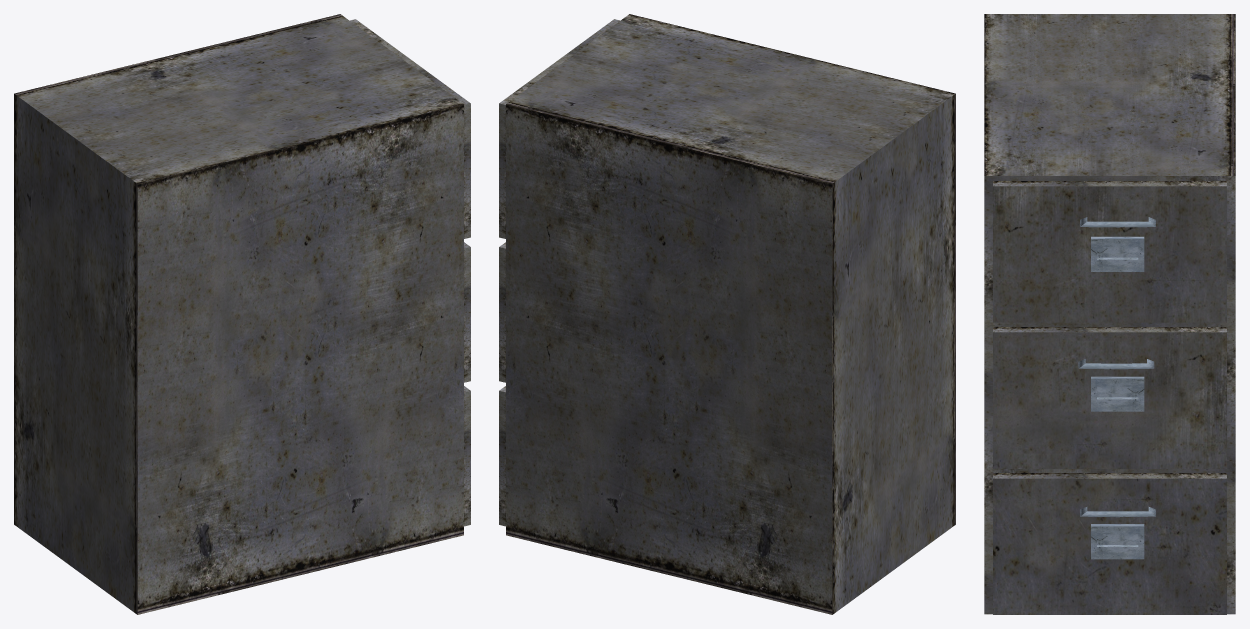
The model's file is M_Home_Garden_cabinet2.fbx.
3 views of the same model, side by side, from view 1: azimuth 30°, elevation 25°; view 2: azimuth 150°, elevation 25°; view 3: azimuth 270°, elevation 25° (orthographic).
Visible parts, largest first — view 1: M_Home_Garden_cabinet2; view 2: M_Home_Garden_cabinet2; view 3: M_Home_Garden_cabinet2.
Boxes of the visible parts, x1=… form: M_Home_Garden_cabinet2: x1=14, y1=14, x2=470, y2=614; M_Home_Garden_cabinet2: x1=499, y1=14, x2=955, y2=614; M_Home_Garden_cabinet2: x1=984, y1=14, x2=1235, y2=614.
Size of the model in its own units: 91.98 by 107 by 55.72.
